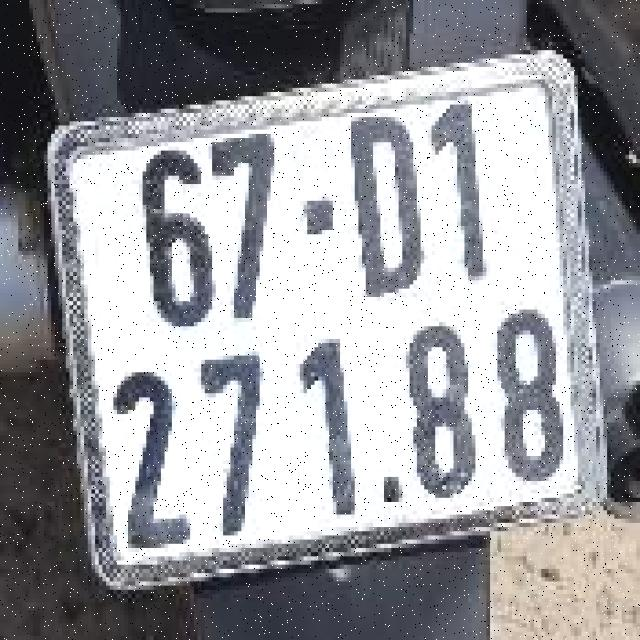1: (430, 96, 499, 280), (298, 337, 364, 525)
2: (108, 368, 192, 552)
6: (136, 142, 220, 326)
7: (194, 347, 285, 544), (212, 128, 282, 324)
8: (404, 322, 481, 510), (492, 308, 569, 488)
D: (349, 107, 426, 303)
